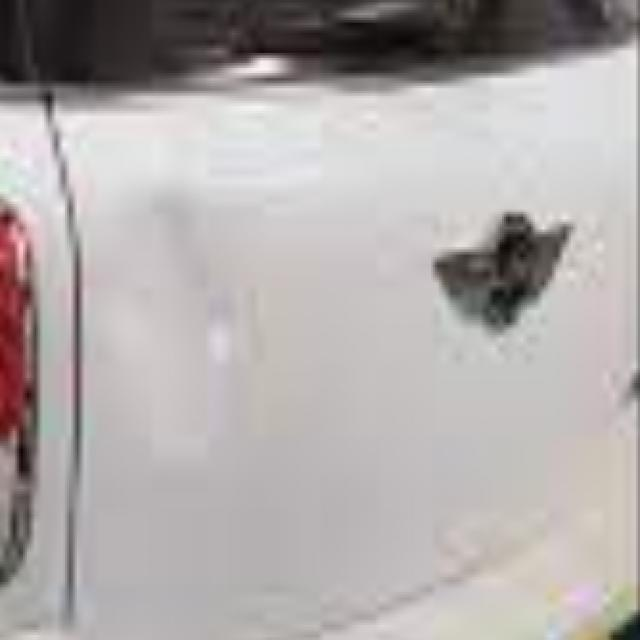dents: (102, 188, 259, 492)
